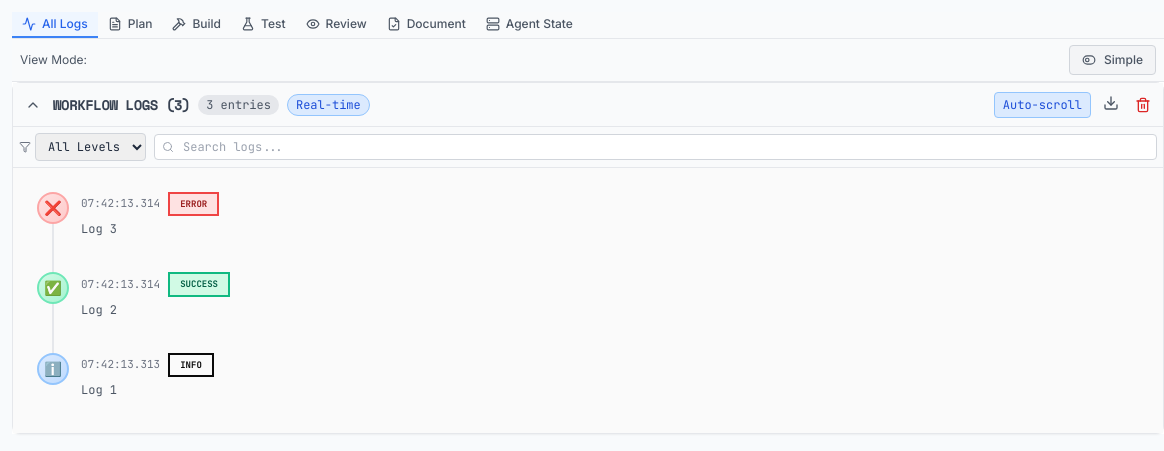
Scenario: StageLogsViewer Component › Loading State › should show loading spinner when stage logs are loading
Click the button "Plan" at [130, 25], box [98, 12, 162, 38]
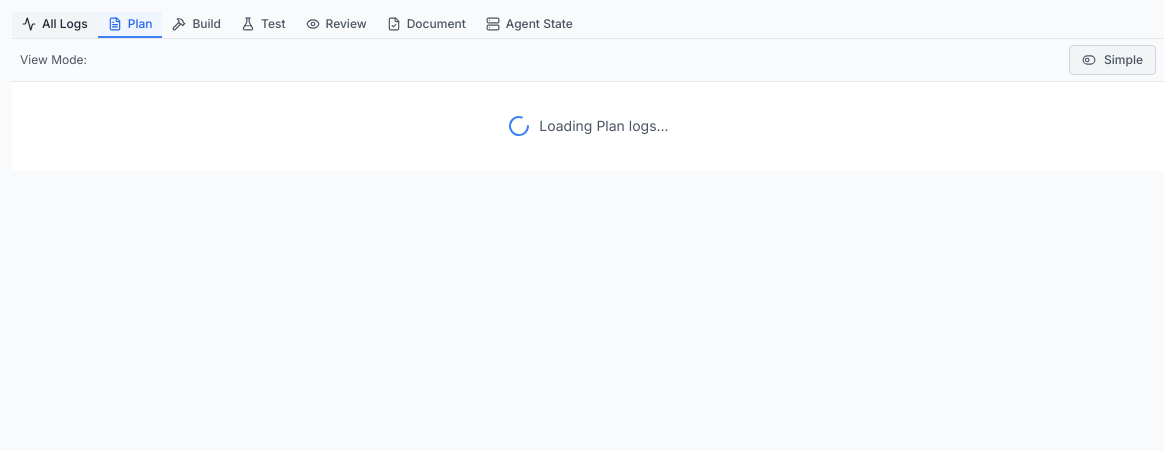
Expected: the text "Loading Plan logs..." is shown, [539, 116, 669, 136]
